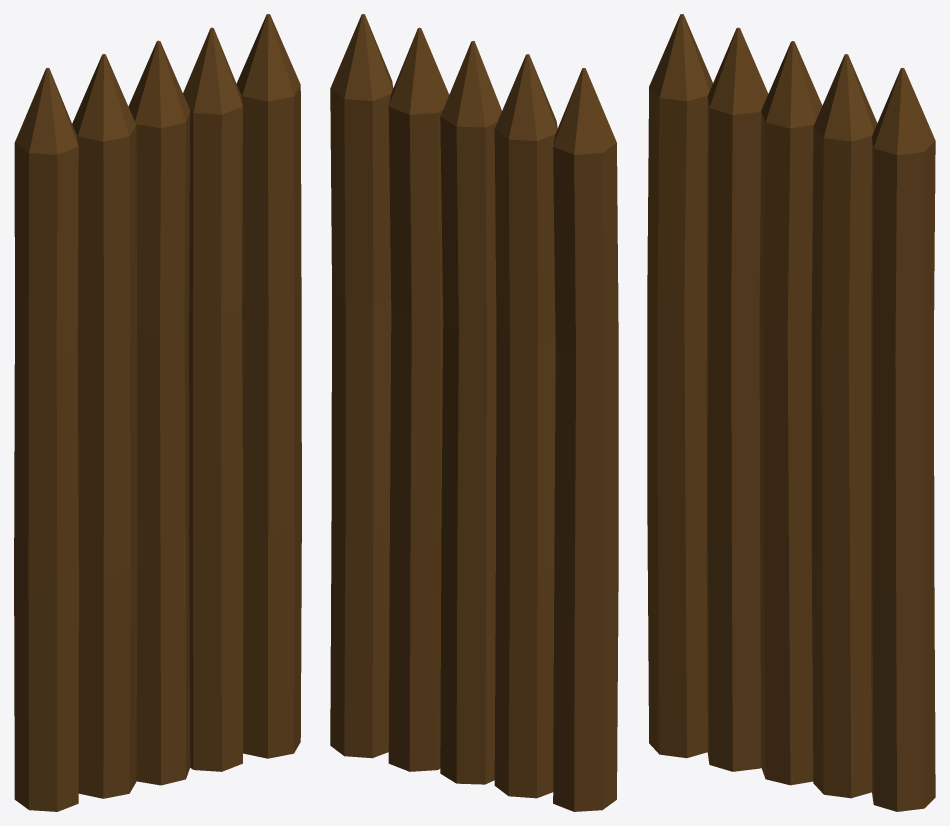
Rendered from PoteauxBois.fbx.
3 renders of one model, left to right at view 1: azimuth 30°, elevation 25°; view 2: azimuth 150°, elevation 25°; view 3: azimuth 330°, elevation 25°, orthographic.
Visible parts, largest first — view 1: Poteaux; view 2: Poteaux; view 3: Poteaux.
Part boxes in pixels (left/top/right/bottom): Poteaux: left=14, top=14, right=301, bottom=811; Poteaux: left=330, top=14, right=618, bottom=811; Poteaux: left=647, top=14, right=935, bottom=811.
Bounding box in the file's own units: 239 × 607 × 50.36.
